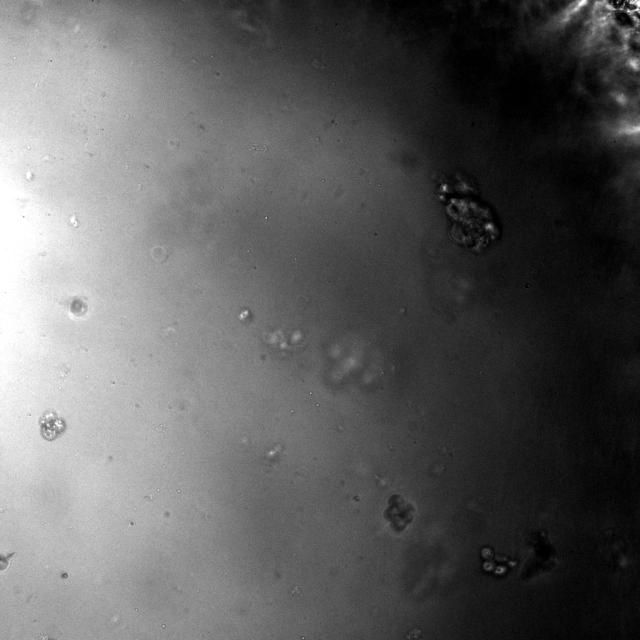organoid: (435, 171, 500, 254), (326, 334, 388, 388), (383, 493, 414, 532), (263, 329, 306, 356), (480, 545, 516, 577), (38, 411, 66, 440), (69, 296, 88, 318), (238, 307, 252, 323)
